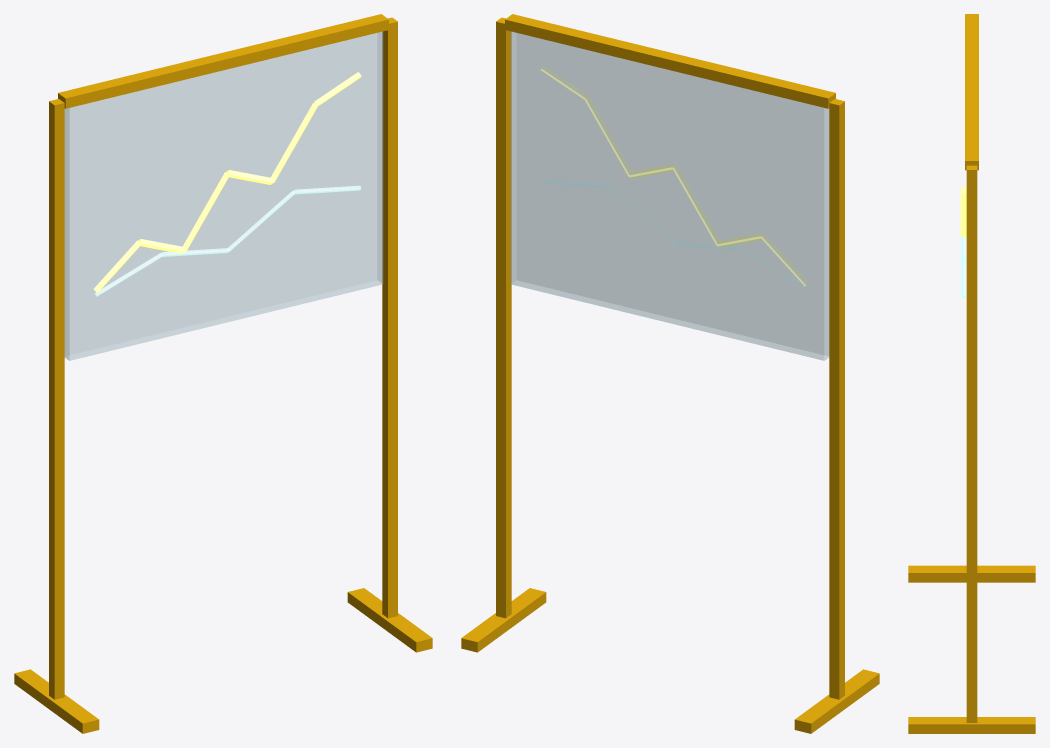
File: station_buffer_ausstattung_2_2.glb
The picture shows the model from 3 angles, left to right: view 1: azimuth 30°, elevation 25°; view 2: azimuth 150°, elevation 25°; view 3: azimuth 270°, elevation 25°; orthographic projection. The views are drawn at different scales.
Parts seen in each view (by area): view 1: station_buffer_ausstattung_2_2; view 2: station_buffer_ausstattung_2_2; view 3: station_buffer_ausstattung_2_2.
Part boxes in pixels (box(x1,y1,x2,y2)): station_buffer_ausstattung_2_2: box(14, 14, 432, 733); station_buffer_ausstattung_2_2: box(461, 14, 879, 733); station_buffer_ausstattung_2_2: box(908, 14, 1035, 733).
Size of the model in its own units: 1.06 by 1.76 by 0.36.
